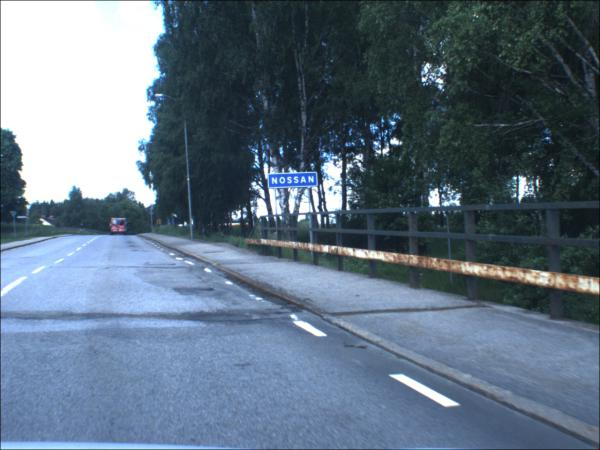WARNING: (157, 220, 163, 224)
